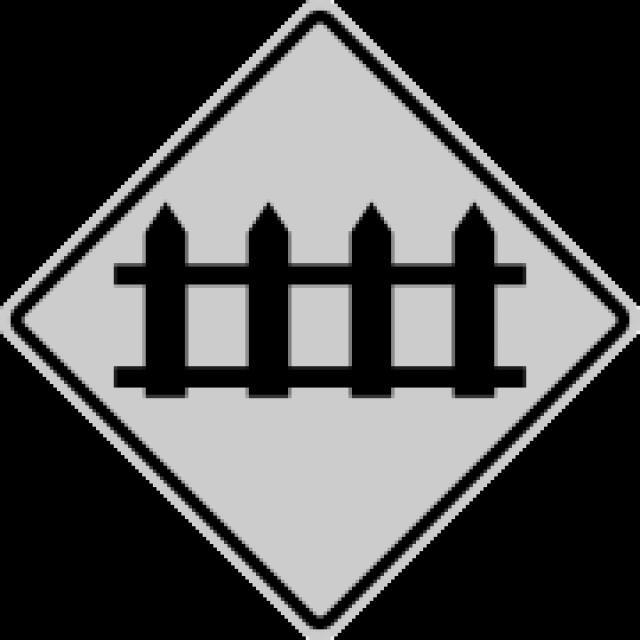guarded level crossing: (44, 42, 597, 549)
